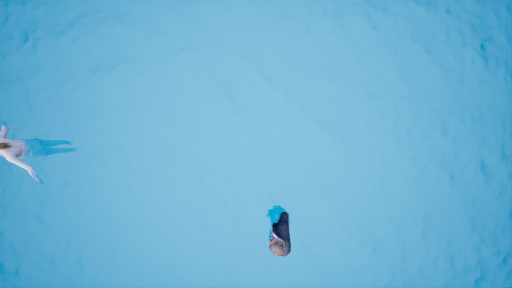person: (1, 119, 82, 180), (265, 208, 297, 259)
